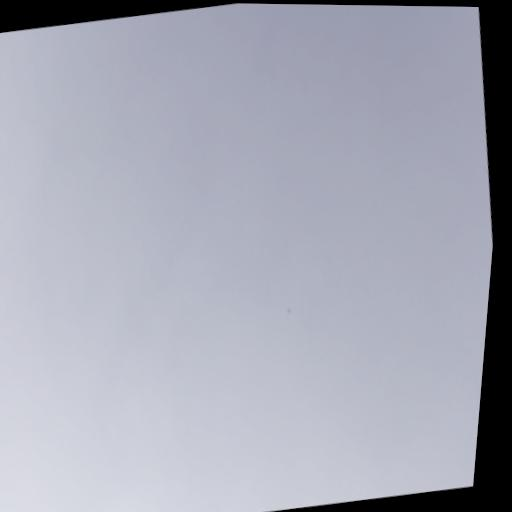drones: (286, 307, 292, 316)
